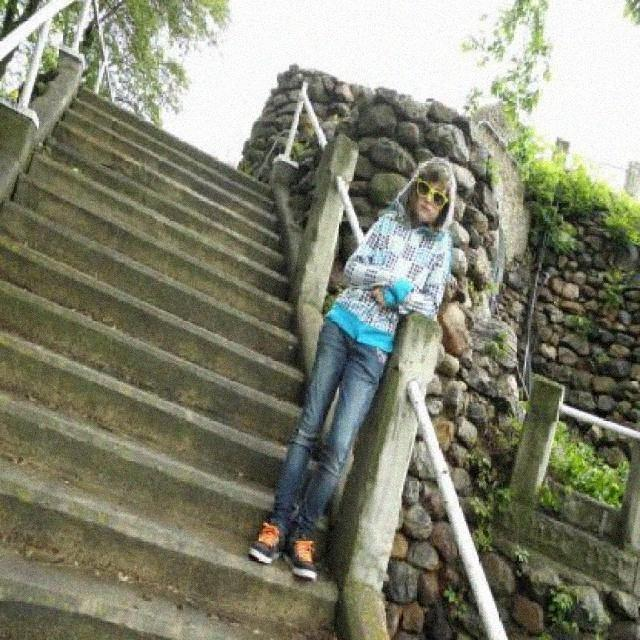stair: (0, 84, 349, 640)
